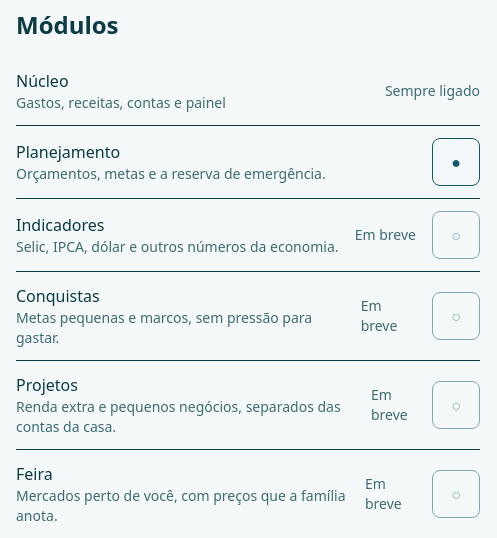
ModulesPage › disableShowsNoNotice
Click the switch named "Planejamento": [456, 162] box [432,138,480,186]
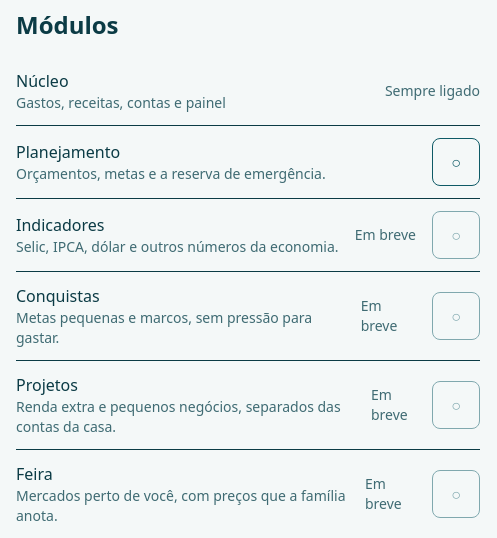
expect the switch named "Planejamento" is not checked: met, box [432,138,480,186]
